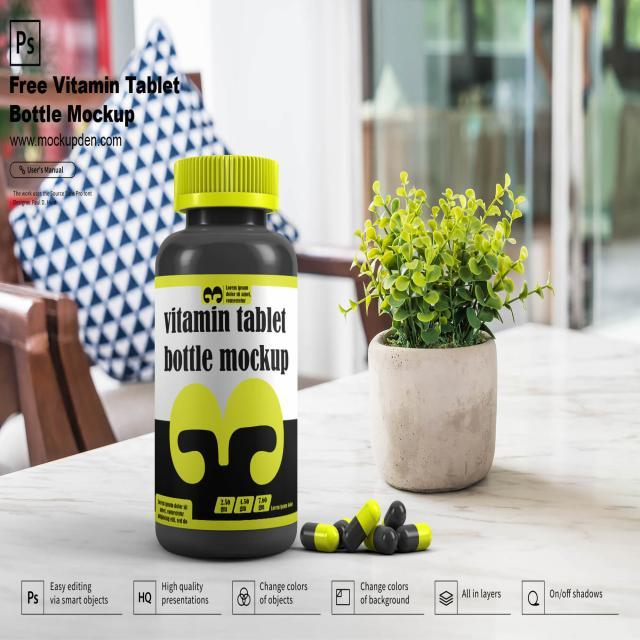jar: (155, 155, 298, 560)
